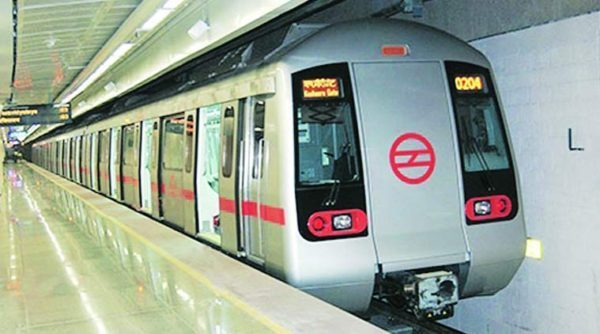train: (35, 15, 529, 310)
